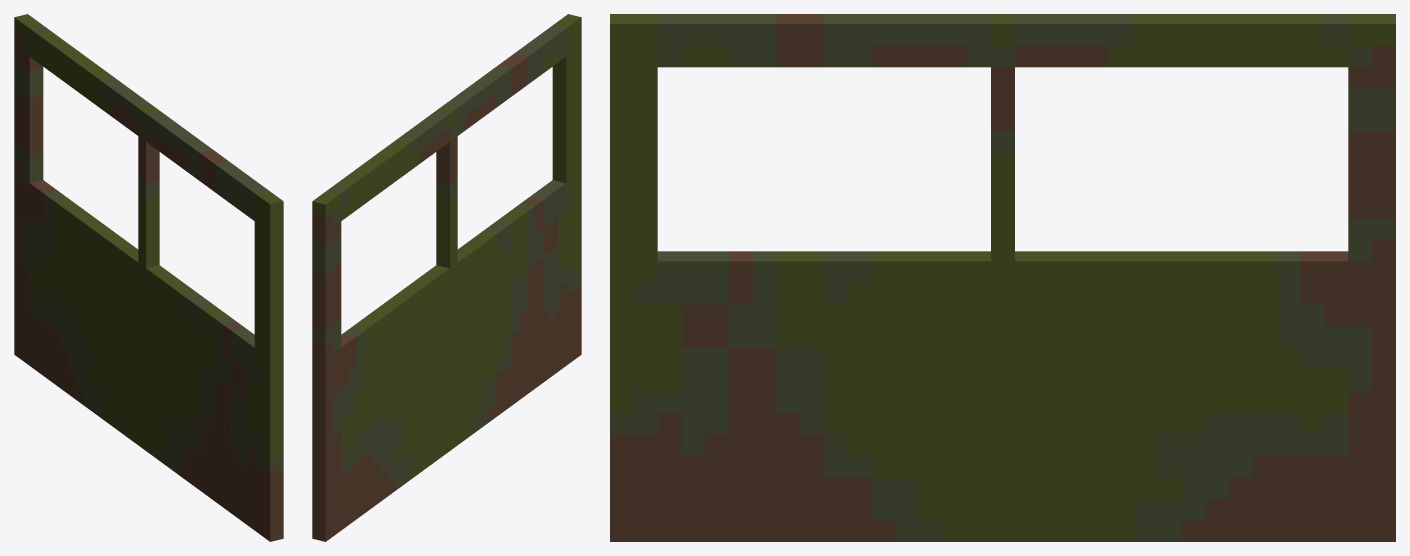
File: abandoned_army_truck_screen_frame.glb
3 renders of one model, left to right at view 1: azimuth 30°, elevation 25°; view 2: azimuth 150°, elevation 25°; view 3: azimuth 270°, elevation 25°, orthographic. The views are drawn at different scales.
Parts seen in each view (by area): view 1: body:compound; view 2: body:compound; view 3: body:compound.
Boxes of the visible parts, x1=… form: body:compound: x1=14, y1=14, x2=283, y2=541; body:compound: x1=312, y1=14, x2=581, y2=541; body:compound: x1=610, y1=14, x2=1395, y2=541.
Size of the model in its own units: 0.0625 by 1.5 by 2.06.
